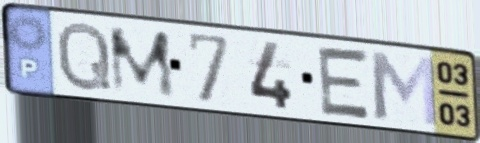4: (247, 38, 296, 112)
7: (185, 29, 233, 106)
E: (315, 43, 375, 123)
M: (365, 48, 441, 129), (106, 25, 180, 100)
Q: (55, 18, 115, 94)
